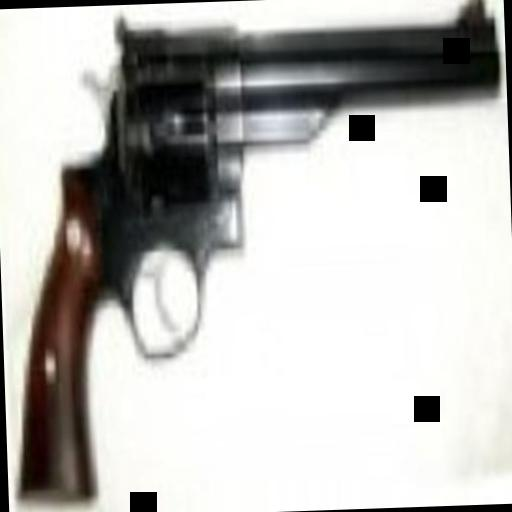Handgun: (0, 0, 509, 506)
